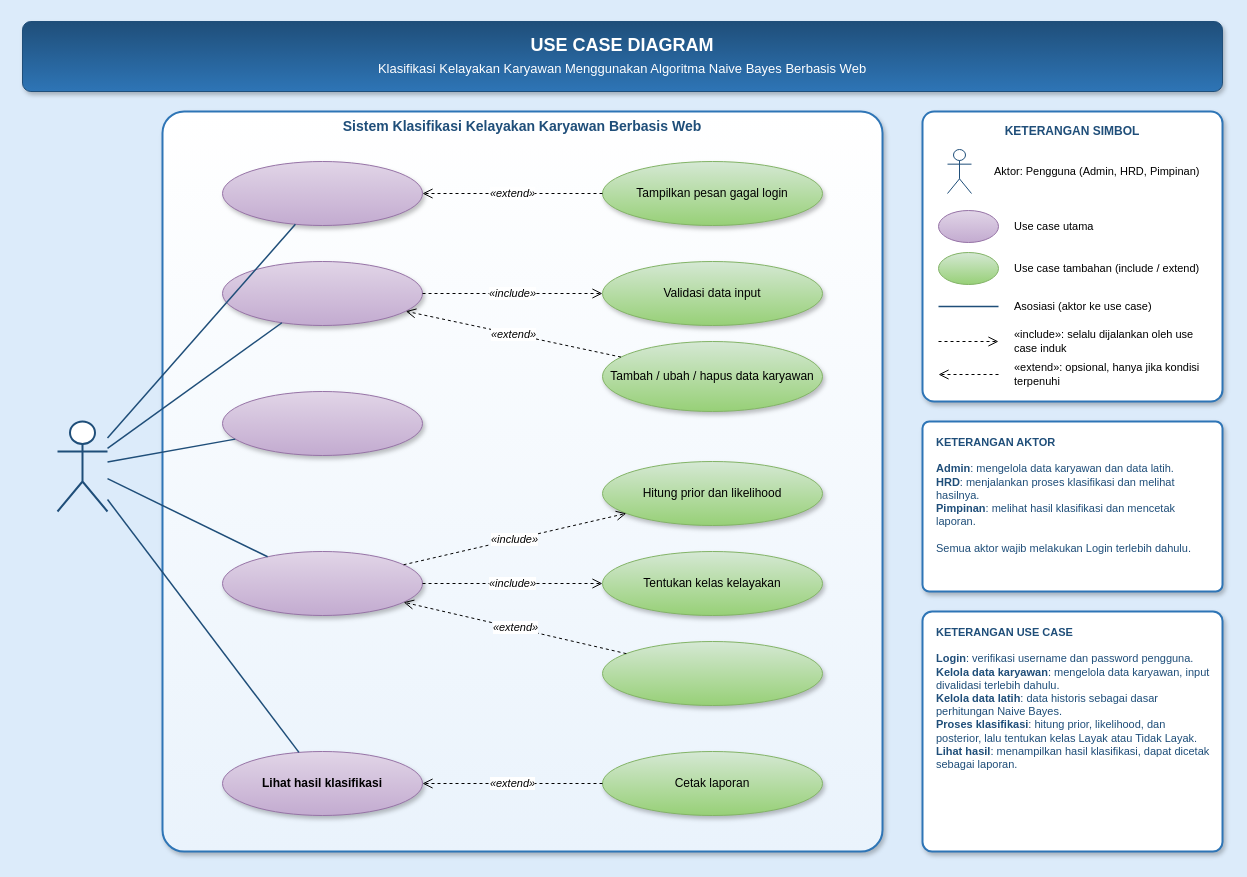
The diagram is 1247 pixels wide and 877 high, and some of its shapes have lost their labels. Here are the shapes that lost their labels. From the top down, the centre of each, then its label:
At (323,194): "Login".
At (323,294): "Kelola data karyawan".
At (323,424): "Kelola data latih (training)".
At (82,466): "Pengguna (Admin, HRD, Pimpinan)".
At (323,584): "Proses klasifikasi Naive Bayes".
At (713,674): "Hitung akurasi model".
